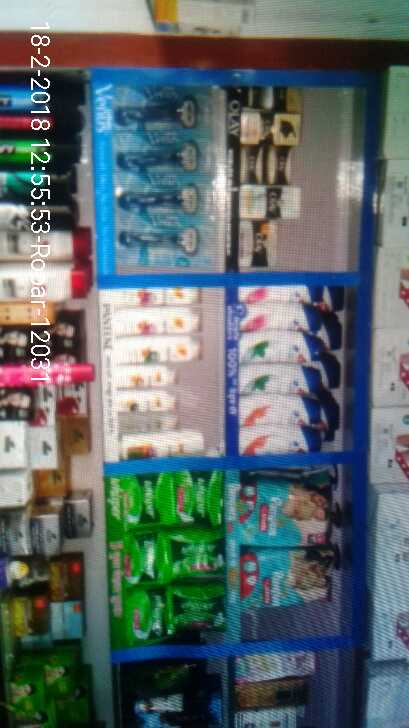venus: (113, 170, 213, 217), (113, 217, 213, 260), (118, 86, 212, 131), (118, 131, 214, 170)
